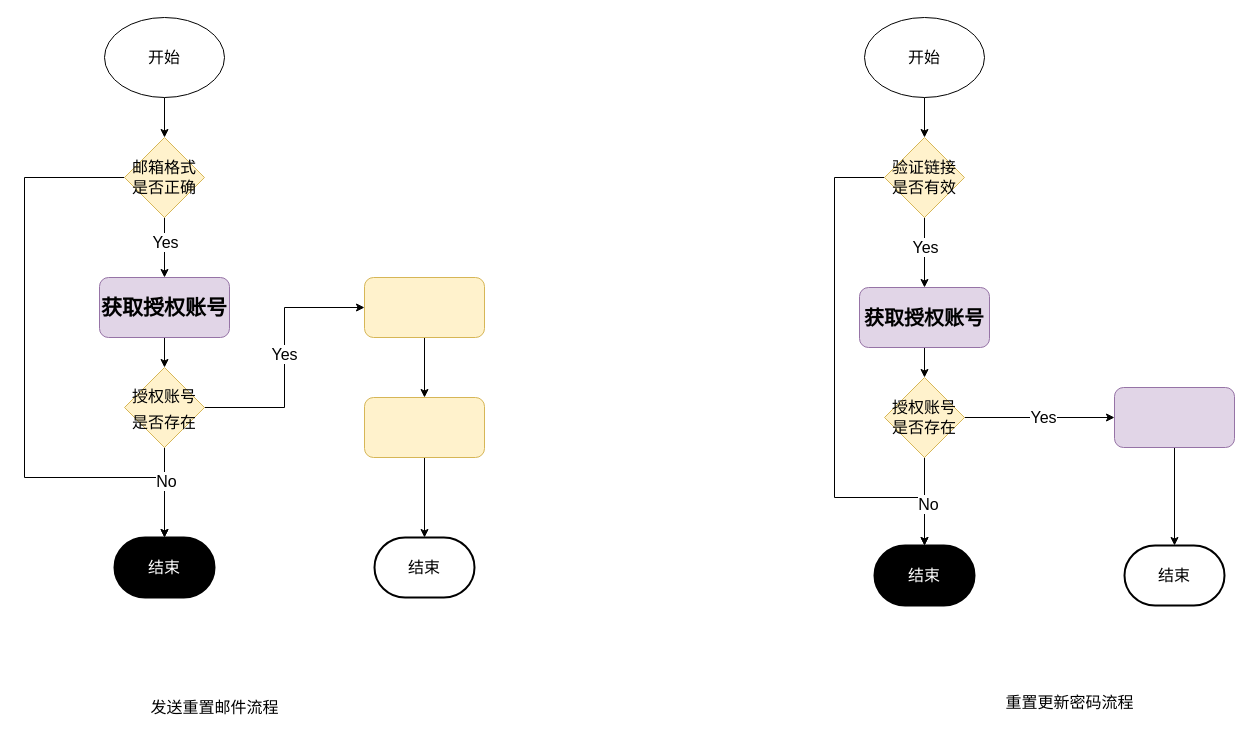
The diagram is 1252 pixels wide and 740 high, and some of its shapes have lost their labels. The centre of each missing label's shape, as x and y in pixels:
"发送邮件" belongs at [424,427].
"更新密码" belongs at [1174,417].
"生成加密链接" belongs at [424,307].
